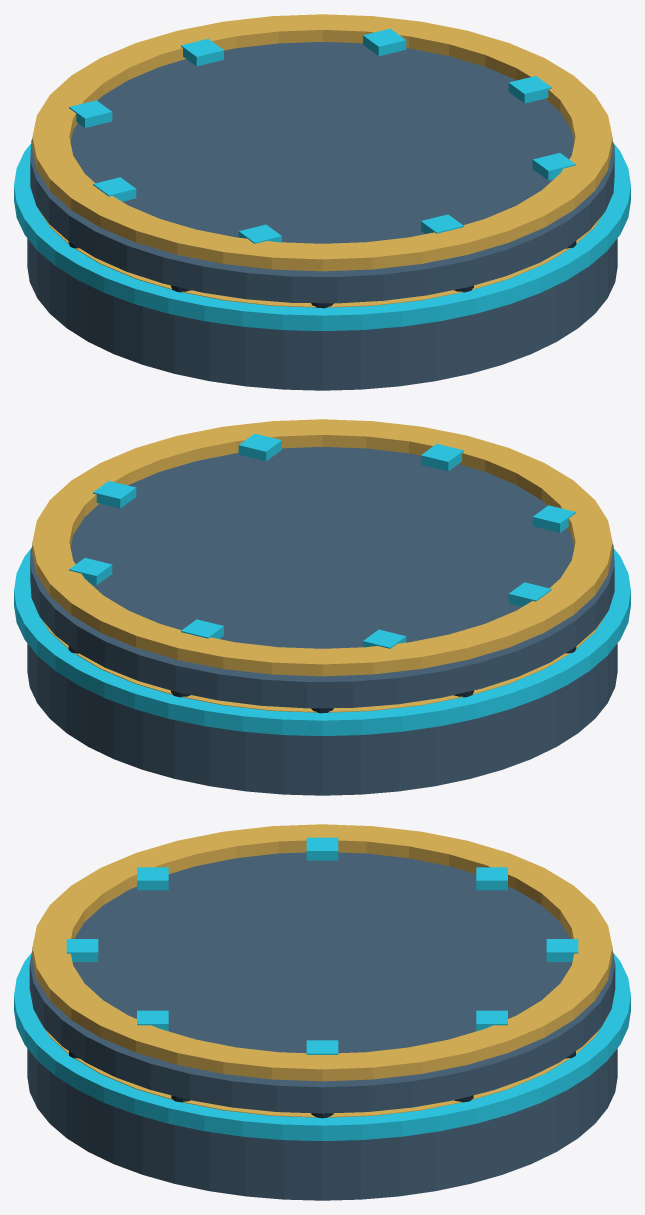
Rendered from 25_L79_BaseWaferVacuumChuck.fbx.
3 renders of one model, top to bottom at view 1: azimuth 30°, elevation 25°; view 2: azimuth 150°, elevation 25°; view 3: azimuth 270°, elevation 25°, orthographic.
Visible parts, largest first — view 1: BaseWaferVacuumChuck_Part_0014, BaseWaferVacuumChuck, BaseWaferVacuumChuck_Part_0015, BaseWaferVacuumChuck_Part_0025, BaseWaferVacuumChuck_Part_0023, BaseWaferVacuumChuck_Part_0016, BaseWaferVacuumChuck_Part_0022, BaseWaferVacuumChuck_Part_0021, BaseWaferVacuumChuck_Part_0017, BaseWaferVacuumChuck_Part_0020, BaseWaferVacuumChuck_Part_0018, BaseWaferVacuumChuck_Part_0019; view 2: BaseWaferVacuumChuck_Part_0014, BaseWaferVacuumChuck, BaseWaferVacuumChuck_Part_0015, BaseWaferVacuumChuck_Part_0025, BaseWaferVacuumChuck_Part_0017, BaseWaferVacuumChuck_Part_0016, BaseWaferVacuumChuck_Part_0018, BaseWaferVacuumChuck_Part_0019, BaseWaferVacuumChuck_Part_0023, BaseWaferVacuumChuck_Part_0020, BaseWaferVacuumChuck_Part_0022, BaseWaferVacuumChuck_Part_0021; view 3: BaseWaferVacuumChuck_Part_0014, BaseWaferVacuumChuck, BaseWaferVacuumChuck_Part_0015, BaseWaferVacuumChuck_Part_0025, BaseWaferVacuumChuck_Part_0020, BaseWaferVacuumChuck_Part_0019, BaseWaferVacuumChuck_Part_0021, BaseWaferVacuumChuck_Part_0018, BaseWaferVacuumChuck_Part_0022, BaseWaferVacuumChuck_Part_0017, BaseWaferVacuumChuck_Part_0023.
Boxes of the visible parts, x1,y1,x2,y2 form: BaseWaferVacuumChuck_Part_0014: [30, 42, 614, 303]; BaseWaferVacuumChuck: [14, 143, 630, 390]; BaseWaferVacuumChuck_Part_0015: [32, 14, 612, 271]; BaseWaferVacuumChuck_Part_0025: [39, 205, 608, 307]; BaseWaferVacuumChuck_Part_0023: [363, 28, 406, 56]; BaseWaferVacuumChuck_Part_0016: [508, 76, 551, 103]; BaseWaferVacuumChuck_Part_0022: [181, 39, 223, 66]; BaseWaferVacuumChuck_Part_0021: [69, 100, 112, 127]; BaseWaferVacuumChuck_Part_0017: [532, 153, 575, 180]; BaseWaferVacuumChuck_Part_0020: [93, 177, 136, 201]; BaseWaferVacuumChuck_Part_0018: [421, 214, 463, 233]; BaseWaferVacuumChuck_Part_0019: [238, 224, 281, 243]; BaseWaferVacuumChuck_Part_0014: [30, 447, 614, 708]; BaseWaferVacuumChuck: [14, 548, 630, 795]; BaseWaferVacuumChuck_Part_0015: [32, 419, 612, 676]; BaseWaferVacuumChuck_Part_0025: [36, 610, 605, 712]; BaseWaferVacuumChuck_Part_0017: [238, 433, 281, 461]; BaseWaferVacuumChuck_Part_0016: [93, 481, 136, 508]; BaseWaferVacuumChuck_Part_0018: [421, 444, 463, 471]; BaseWaferVacuumChuck_Part_0019: [532, 505, 575, 532]; BaseWaferVacuumChuck_Part_0023: [69, 558, 112, 585]; BaseWaferVacuumChuck_Part_0020: [508, 582, 551, 606]; BaseWaferVacuumChuck_Part_0022: [181, 619, 223, 638]; BaseWaferVacuumChuck_Part_0021: [363, 629, 406, 648]; BaseWaferVacuumChuck_Part_0014: [29, 852, 615, 1113]; BaseWaferVacuumChuck: [14, 952, 630, 1200]; BaseWaferVacuumChuck_Part_0015: [32, 824, 612, 1081]; BaseWaferVacuumChuck_Part_0025: [36, 1015, 608, 1117]; BaseWaferVacuumChuck_Part_0020: [306, 837, 338, 860]; BaseWaferVacuumChuck_Part_0019: [137, 867, 168, 890]; BaseWaferVacuumChuck_Part_0021: [476, 867, 507, 890]; BaseWaferVacuumChuck_Part_0018: [66, 939, 98, 961]; BaseWaferVacuumChuck_Part_0022: [546, 939, 578, 961]; BaseWaferVacuumChuck_Part_0017: [137, 1010, 168, 1031]; BaseWaferVacuumChuck_Part_0023: [476, 1010, 507, 1031].
Size of the model in its own units: 234 by 54.5 by 234.
